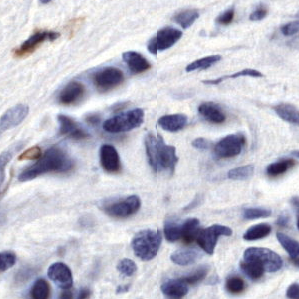Lymphocyte: (11, 29, 60, 59)
